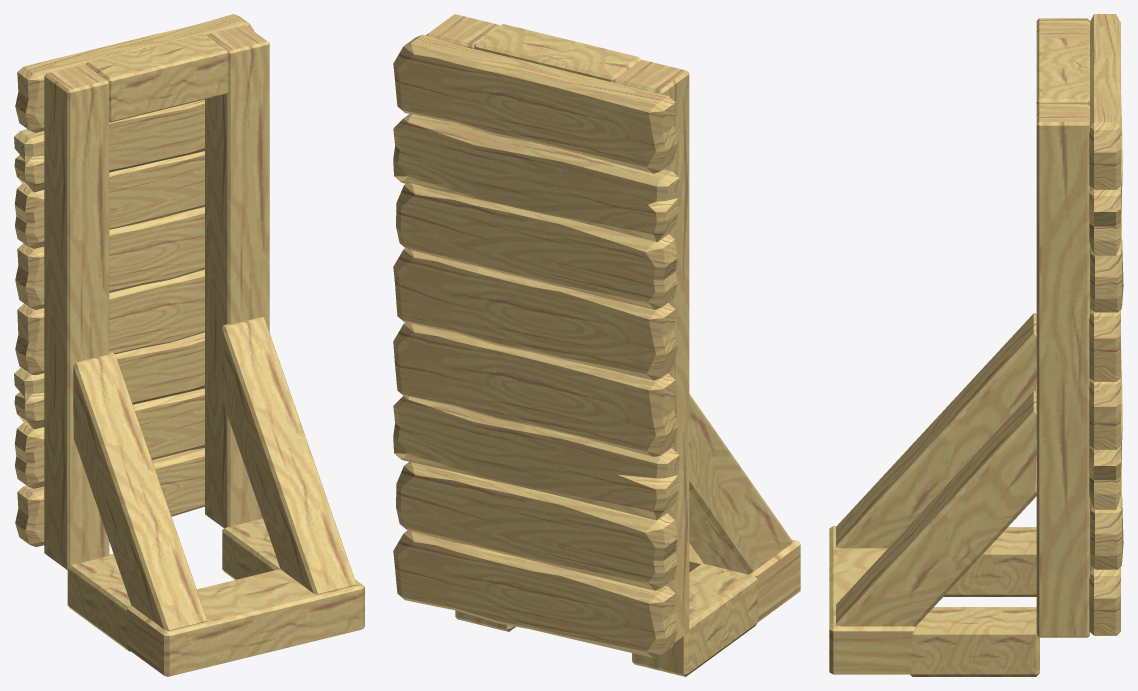
File: BridgeEdgeLong.FBX
3 renders of one model, left to right at view 1: azimuth 30°, elevation 25°; view 2: azimuth 150°, elevation 25°; view 3: azimuth 270°, elevation 25°, orthographic. The views are drawn at different scales.
Parts seen in each view (by area): view 1: pasted__polySurface2515__pasted__Wood_00; view 2: pasted__polySurface2515__pasted__Wood_00; view 3: pasted__polySurface2515__pasted__Wood_00.
Boxes of the visible parts, bbox=[...] form: pasted__polySurface2515__pasted__Wood_00: bbox=[14, 14, 364, 676]; pasted__polySurface2515__pasted__Wood_00: bbox=[393, 14, 800, 676]; pasted__polySurface2515__pasted__Wood_00: bbox=[829, 14, 1123, 676].
Size of the model in its own units: 414 by 878 by 420.
